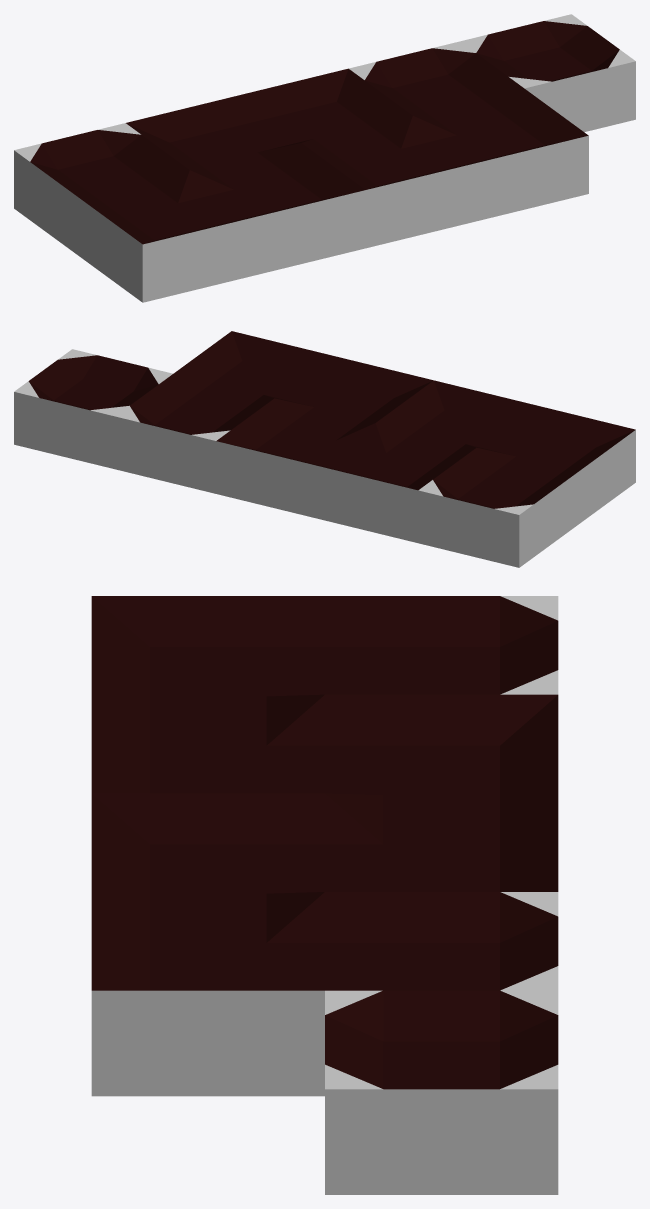
Rendered from 8s_path.obj.
The picture shows the model from 3 angles, top to bottom: view 1: azimuth 30°, elevation 25°; view 2: azimuth 150°, elevation 25°; view 3: azimuth 270°, elevation 25°; orthographic projection. The views are drawn at different scales.
Parts seen in each view (by area): view 1: corner.0.3_corner.074, corner.1.3_corner.075, corner.3.3_corner.079, ending.0.4_ending.029, hole.4.4_Cube.015, corner.2.3_corner.077, corner.2.4_corner.078, ending.3.4_ending.030, corner.1.4_corner.076; view 2: ending.0.4_ending.029, hole.4.4_Cube.015, corner.2.4_corner.078, ending.3.4_ending.030, corner.1.4_corner.076, corner.0.3_corner.074, corner.1.3_corner.075, corner.3.3_corner.079, corner.2.3_corner.077; view 3: hole.4.4_Cube.015, corner.3.3_corner.079, corner.1.4_corner.076, corner.2.3_corner.077, corner.0.3_corner.074, ending.0.4_ending.029, ending.3.4_ending.030, corner.1.3_corner.075, corner.2.4_corner.078.
Boxes of the visible parts, box(x1,y1,x2,y2) form: corner.0.3_corner.074: box(78, 170, 254, 302); corner.1.3_corner.075: box(190, 143, 365, 275); corner.3.3_corner.079: box(413, 88, 588, 220); ending.0.4_ending.029: box(14, 123, 189, 255); hole.4.4_Cube.015: box(460, 14, 635, 132); corner.2.3_corner.077: box(302, 116, 477, 248); corner.2.4_corner.078: box(237, 68, 412, 150); ending.3.4_ending.030: box(349, 41, 523, 123); corner.1.4_corner.076: box(126, 96, 300, 177); ending.0.4_ending.029: box(418, 448, 577, 567); hole.4.4_Cube.015: box(14, 349, 172, 469); corner.2.4_corner.078: box(216, 398, 375, 518); ending.3.4_ending.030: box(115, 374, 273, 493); corner.1.4_corner.076: box(317, 423, 475, 542); corner.0.3_corner.074: box(477, 405, 635, 524); corner.1.3_corner.075: box(376, 380, 534, 454); corner.3.3_corner.079: box(173, 331, 332, 405); corner.2.3_corner.077: box(275, 356, 433, 429); hole.4.4_Cube.015: box(325, 990, 558, 1194); corner.3.3_corner.079: box(91, 892, 324, 1096); corner.1.4_corner.076: box(325, 694, 558, 819); corner.2.3_corner.077: box(91, 793, 324, 918); corner.0.3_corner.074: box(91, 596, 324, 720); ending.0.4_ending.029: box(325, 596, 558, 694); ending.3.4_ending.030: box(325, 892, 558, 990); corner.1.3_corner.075: box(91, 695, 324, 793); corner.2.4_corner.078: box(325, 793, 558, 891).
Bounding box in the file's own units: 10 × 1 × 4.
